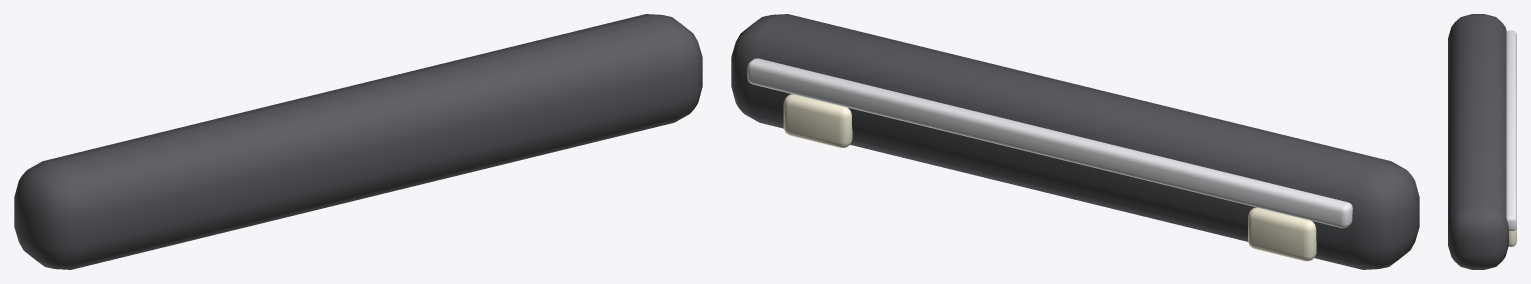
Rendered from Zderzak_Zwykly_Przod.fbx.
3 views of the same model, side by side, from view 1: azimuth 30°, elevation 25°; view 2: azimuth 150°, elevation 25°; view 3: azimuth 270°, elevation 25° (orthographic). The views are drawn at different scales.
Visible parts, largest first — view 1: Zderzak_Zwykly_Przod; view 2: Zderzak_Zwykly_Przod; view 3: Zderzak_Zwykly_Przod.
Boxes of the visible parts, x1=… form: Zderzak_Zwykly_Przod: x1=14, y1=14, x2=702, y2=269; Zderzak_Zwykly_Przod: x1=731, y1=14, x2=1419, y2=269; Zderzak_Zwykly_Przod: x1=1448, y1=14, x2=1516, y2=269.
Bounding box in the file's own units: 2.45 × 0.34 × 0.34.
